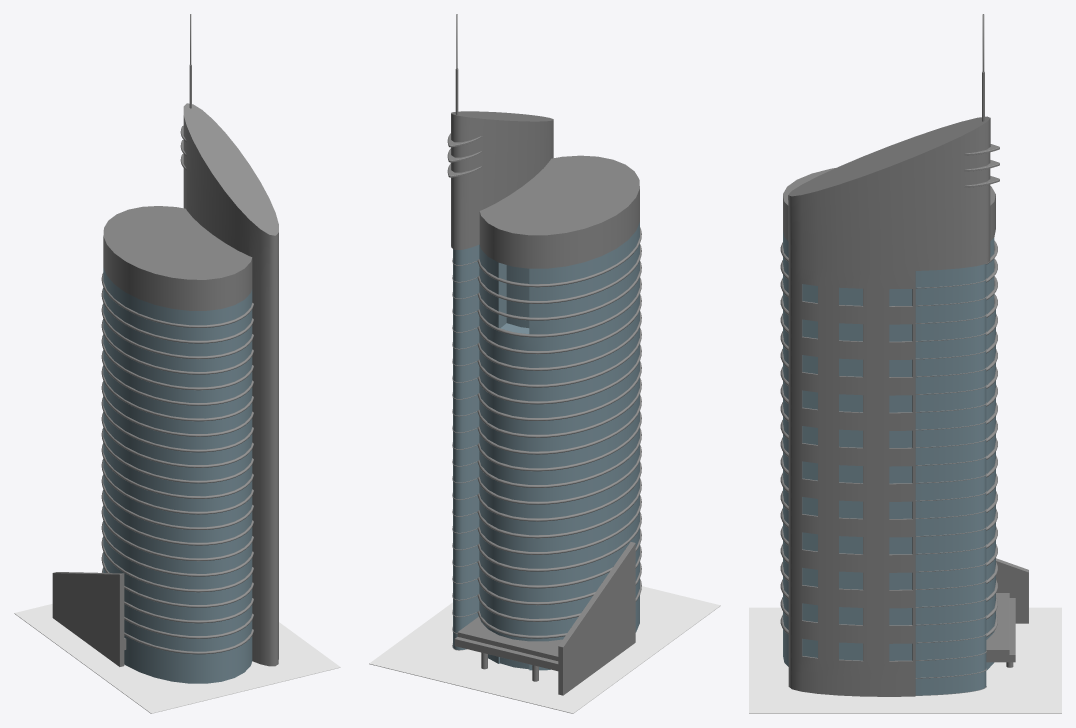
The model's file is Building.fbx.
3 renders of one model, left to right at view 1: azimuth 30°, elevation 25°; view 2: azimuth 150°, elevation 25°; view 3: azimuth 270°, elevation 25°, orthographic. The views are drawn at different scales.
Parts seen in each view (by area): view 1: Object26, Cylinder111, Shape12, Cylinder110, Box09, Box399; view 2: Object26, Shape12, Cylinder110, Box09, Object22, Cylinder111, Box399, Shape13; view 3: Cylinder111, Object22, Box09, Object26, Object24, Object23, Shape12, Object25, Box399, Shape13, Cylinder110.
Boxes of the visible parts, x1,y1,x2,y2 form: Object26: (103, 267, 252, 683); Cylinder111: (183, 103, 278, 666); Shape12: (101, 273, 253, 654); Cylinder110: (103, 206, 252, 310); Box09: (14, 604, 340, 713); Box399: (52, 572, 126, 666); Object26: (479, 222, 639, 670); Shape12: (477, 227, 641, 638); Cylinder110: (479, 155, 639, 268); Box09: (369, 586, 720, 713); Object22: (453, 245, 479, 649); Cylinder111: (451, 111, 553, 249); Box399: (454, 542, 635, 695); Shape13: (452, 258, 477, 650); Cylinder111: (788, 116, 990, 696); Object22: (915, 264, 986, 695); Box09: (749, 607, 1061, 713); Object26: (783, 231, 995, 670); Object24: (839, 287, 862, 660); Object23: (889, 289, 912, 660); Shape12: (780, 240, 997, 636); Object25: (802, 284, 817, 657); Box399: (986, 558, 1028, 662); Shape13: (915, 278, 986, 695); Cylinder110: (783, 168, 995, 241).
Bounding box in the file's own units: 370 × 1100 × 464.
